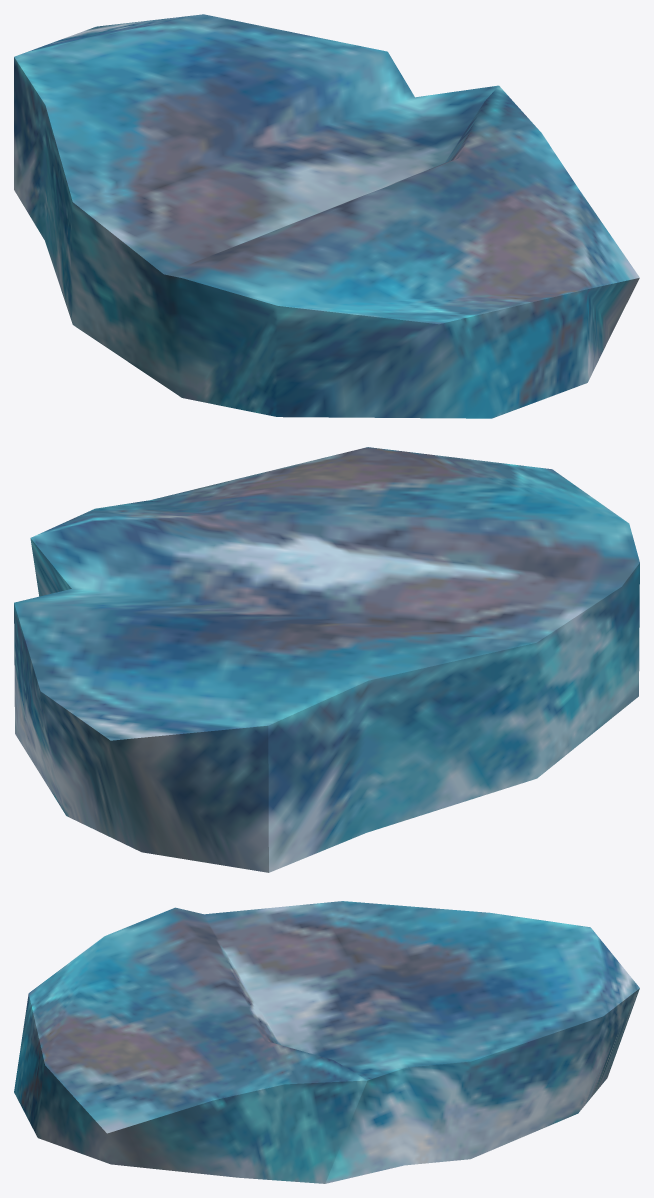
The model's file is 5013_Item_shitou_6.FBX.
3 views of the same model, one above another, from view 1: azimuth 30°, elevation 25°; view 2: azimuth 150°, elevation 25°; view 3: azimuth 270°, elevation 25° (orthographic). The views are drawn at different scales.
Visible parts, largest first — view 1: 5013_Item_shitou_6; view 2: 5013_Item_shitou_6; view 3: 5013_Item_shitou_6.
Boxes of the visible parts, x1=… form: 5013_Item_shitou_6: x1=14, y1=14, x2=639, y2=418; 5013_Item_shitou_6: x1=14, y1=447, x2=639, y2=872; 5013_Item_shitou_6: x1=14, y1=901, x2=639, y2=1183.
Size of the model in its own units: 211 by 63.39 by 307.
